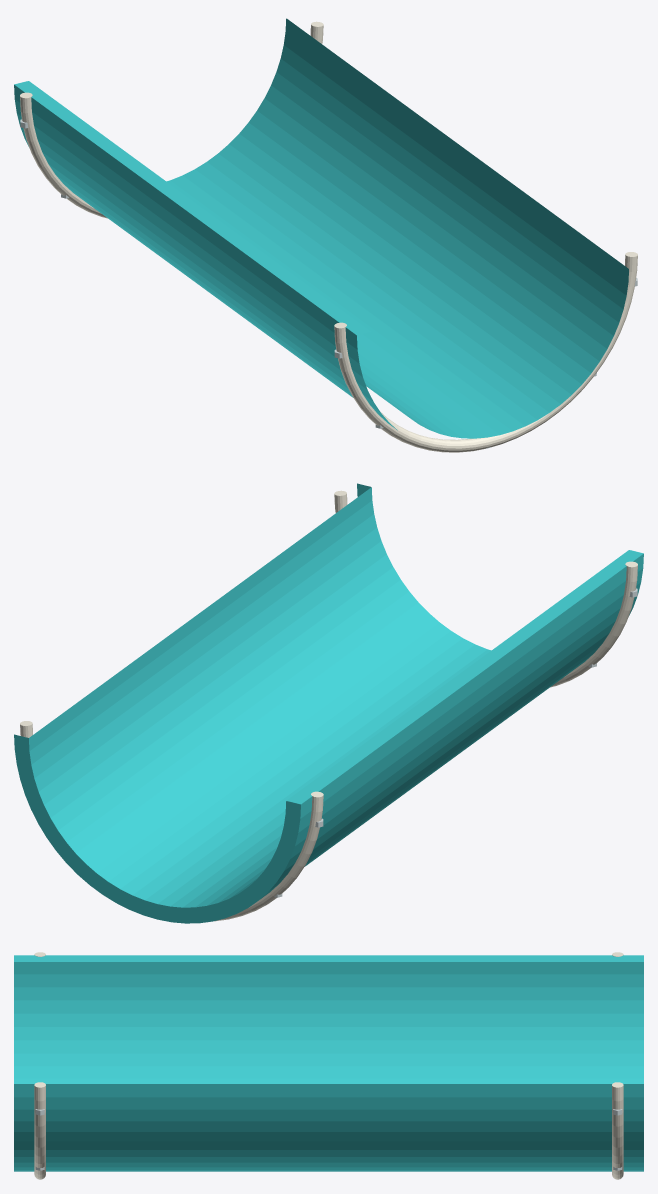
Rendered from waterpark-and-pool-operations-waterpark-and-pool-opera-7ff323c6__28958.glb.
The picture shows the model from 3 angles, top to bottom: view 1: azimuth 30°, elevation 25°; view 2: azimuth 150°, elevation 25°; view 3: azimuth 270°, elevation 25°; orthographic projection. The views are drawn at different scales.
Visible parts, largest first — view 1: waterpark-and-pool-operations-slide-runout; view 2: waterpark-and-pool-operations-slide-runout; view 3: waterpark-and-pool-operations-slide-runout.
Boxes of the visible parts, left/top/right/bottom form: waterpark-and-pool-operations-slide-runout: left=14, top=18, right=637, bottom=452; waterpark-and-pool-operations-slide-runout: left=14, top=483, right=643, bottom=923; waterpark-and-pool-operations-slide-runout: left=14, top=952, right=643, bottom=1179.
Bounding box in the file's own units: 1.53 × 0.7643 × 3.
